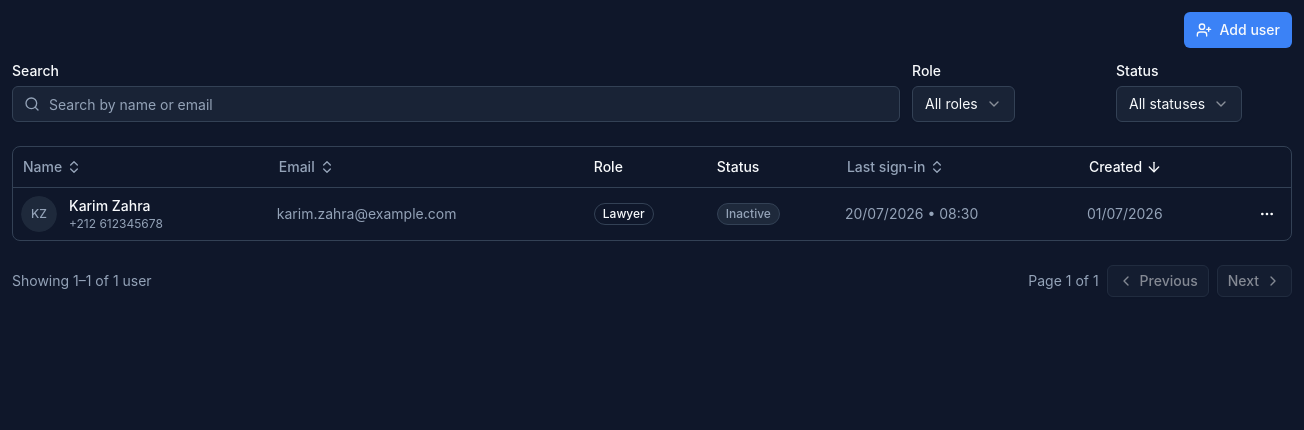
Test: row actions › offers Activate rather than Deactivate for a disabled account
The image size is (1304, 430).
Expected: the link "Karim Zahra" is shown, [69,196,163,216]
Click the button named "Actions for Karim Zahra".
click(1267, 214)  # box [1251,198,1283,230]
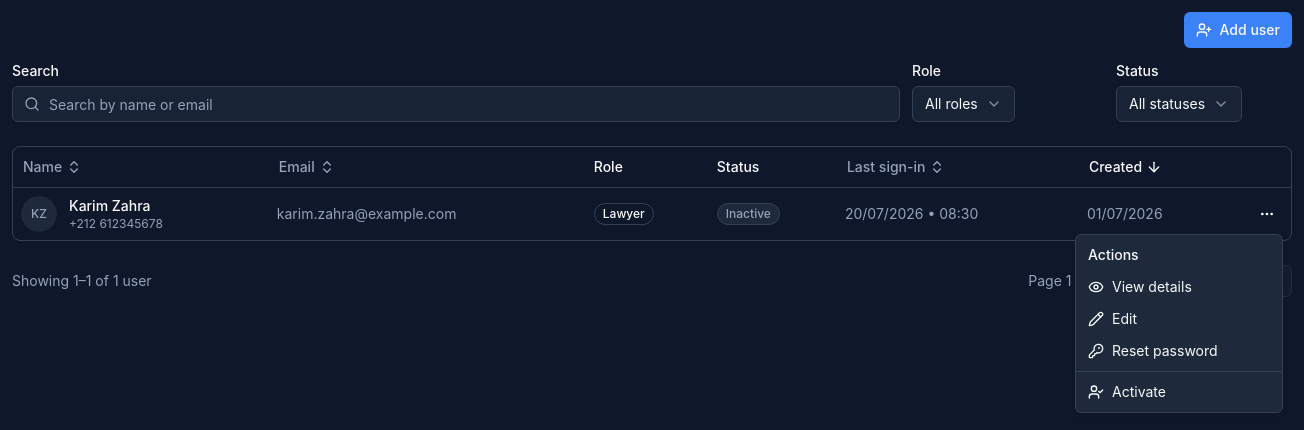
Expected: the menu item "Activate" is shown, [1088,383,1166,400]
